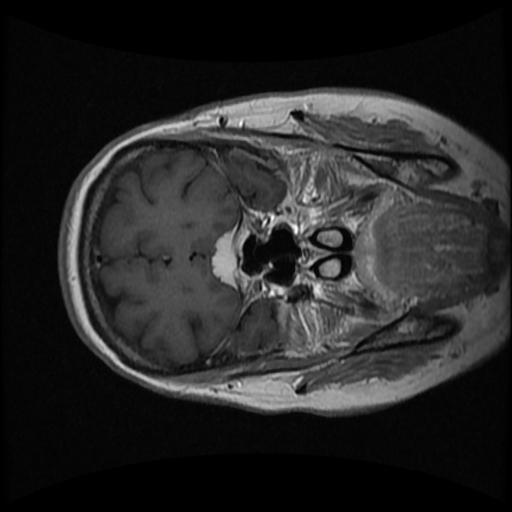meningioma: (210, 229, 236, 288)
